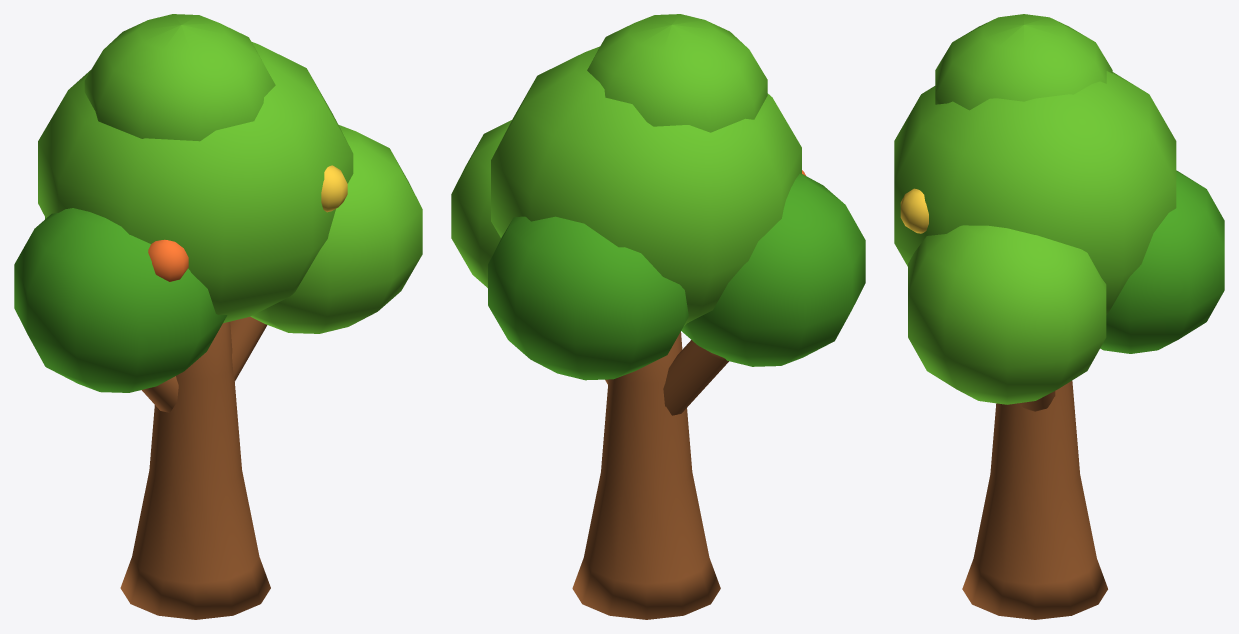
Rendered from fruit_tree.glb.
The picture shows the model from 3 angles, left to right: view 1: azimuth 30°, elevation 25°; view 2: azimuth 150°, elevation 25°; view 3: azimuth 270°, elevation 25°; orthographic projection. The views are drawn at different scales.
Parts seen in each view (by area): view 1: Canopy, Trunk, Fruits; view 2: Canopy, Trunk; view 3: Canopy, Trunk, Fruits.
Part boxes in pixels (box(x1,y1,x2,y2)): Canopy: box(14, 14, 422, 392); Trunk: box(120, 316, 270, 619); Fruits: box(148, 165, 347, 281); Canopy: box(451, 14, 865, 380); Trunk: box(572, 331, 728, 619); Canopy: box(894, 14, 1224, 404); Trunk: box(962, 381, 1107, 619); Fruits: box(900, 188, 928, 233).
Size of the model in its own units: 1.54 by 2.18 by 1.18.
